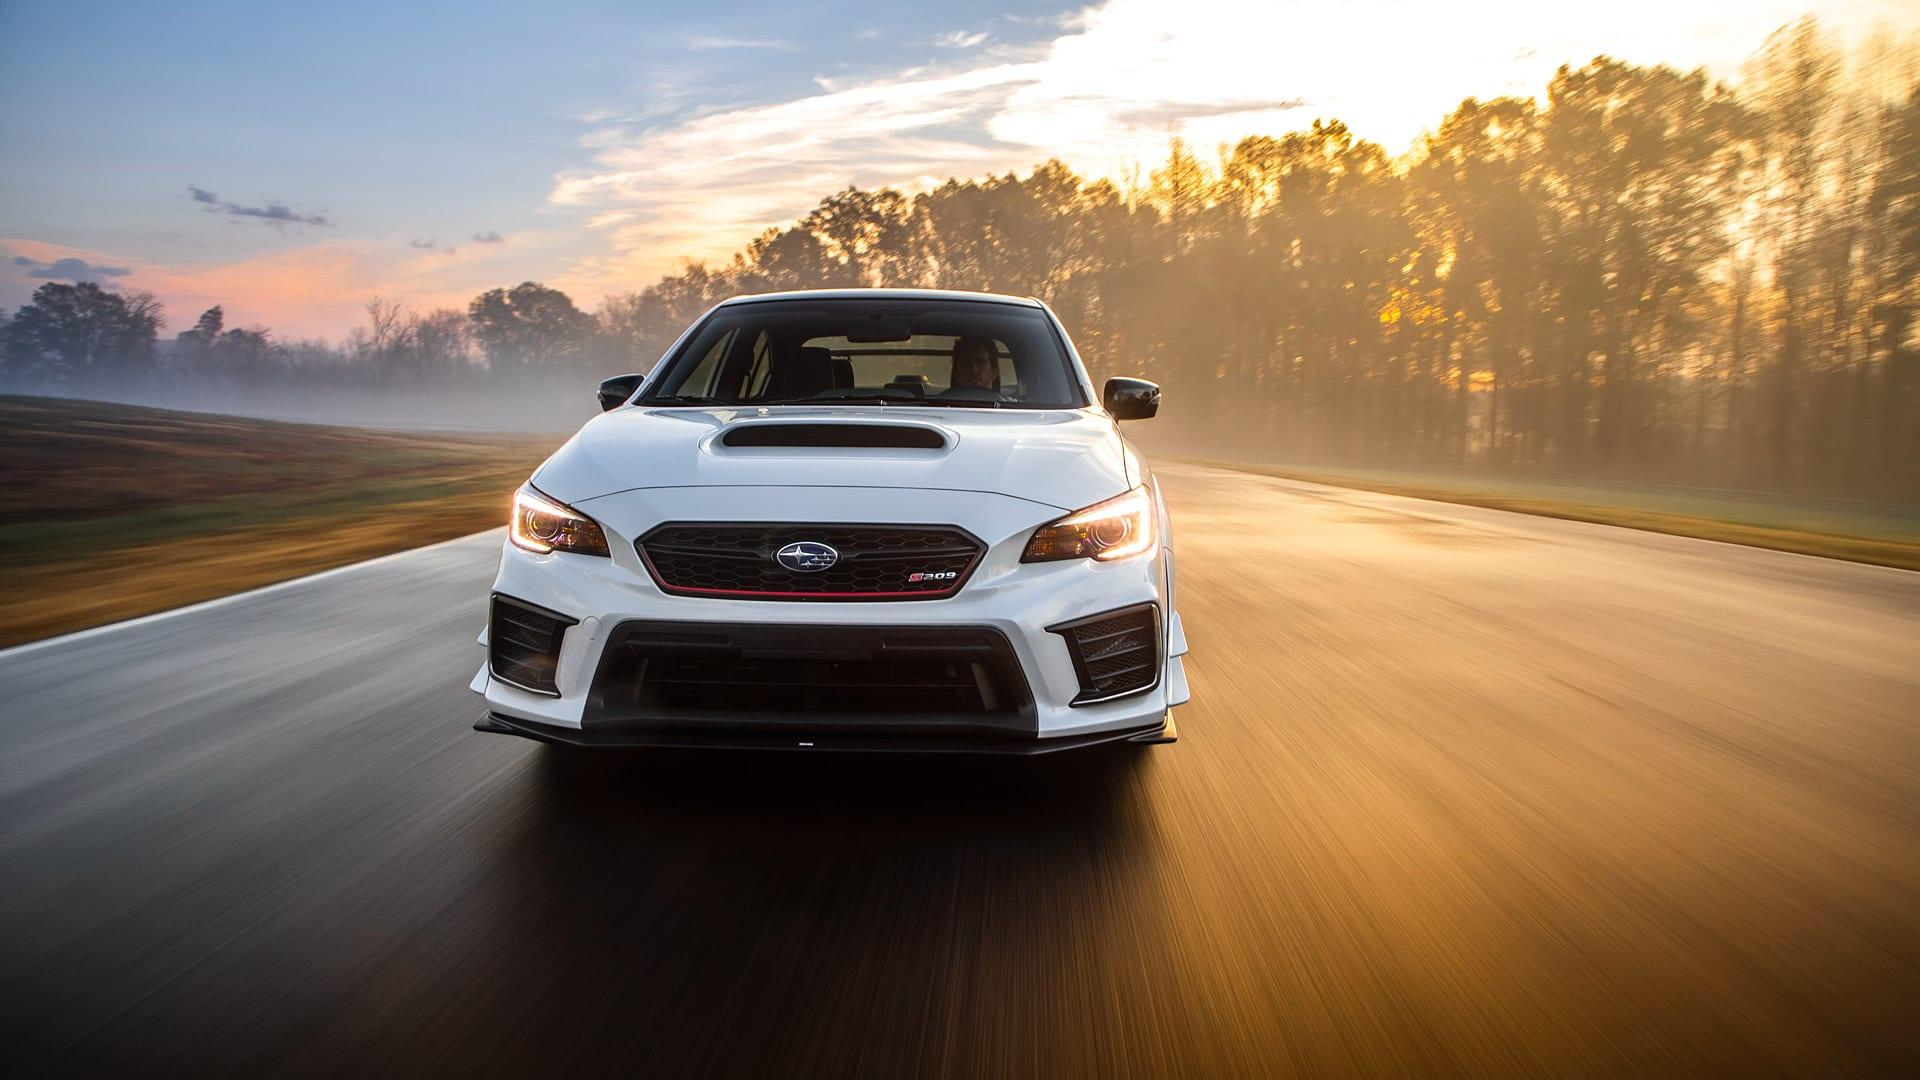subaru: (754, 525, 860, 587)
